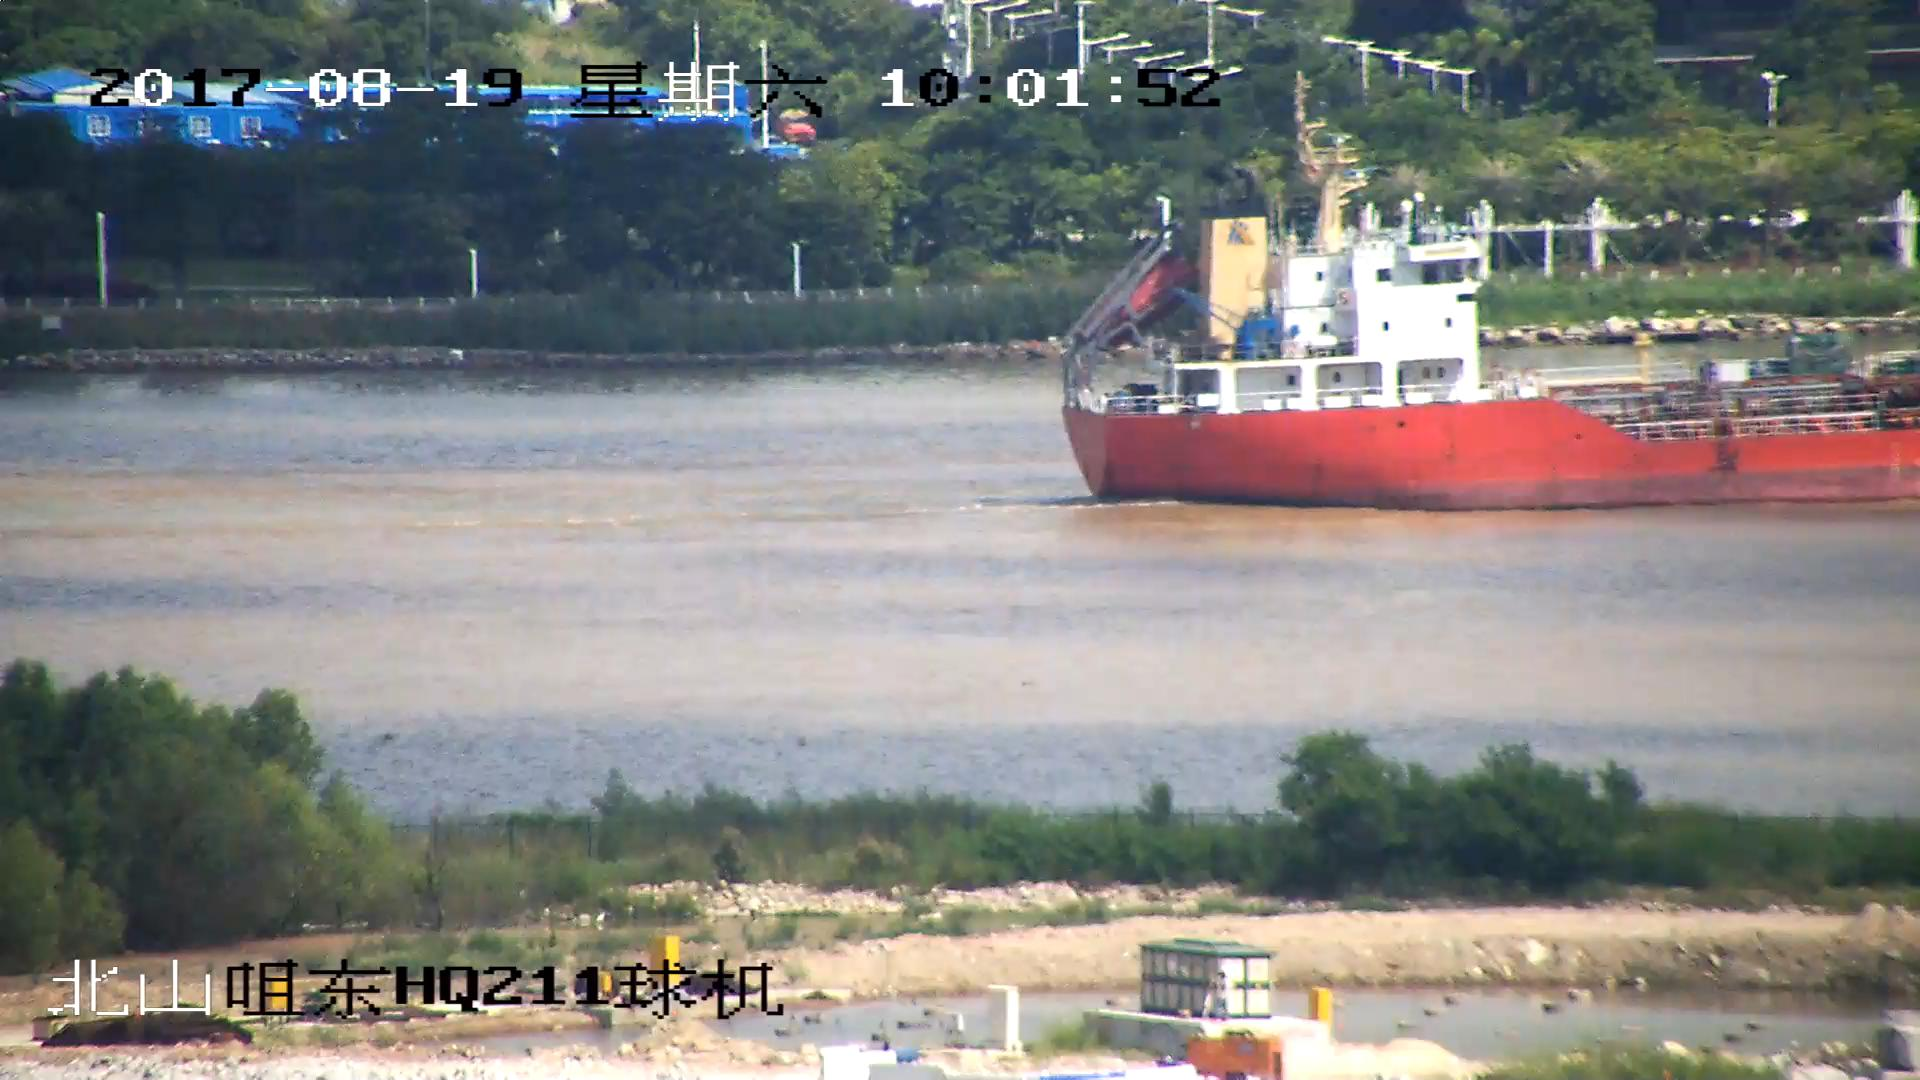general cargo ship: (1047, 119, 1920, 510)
